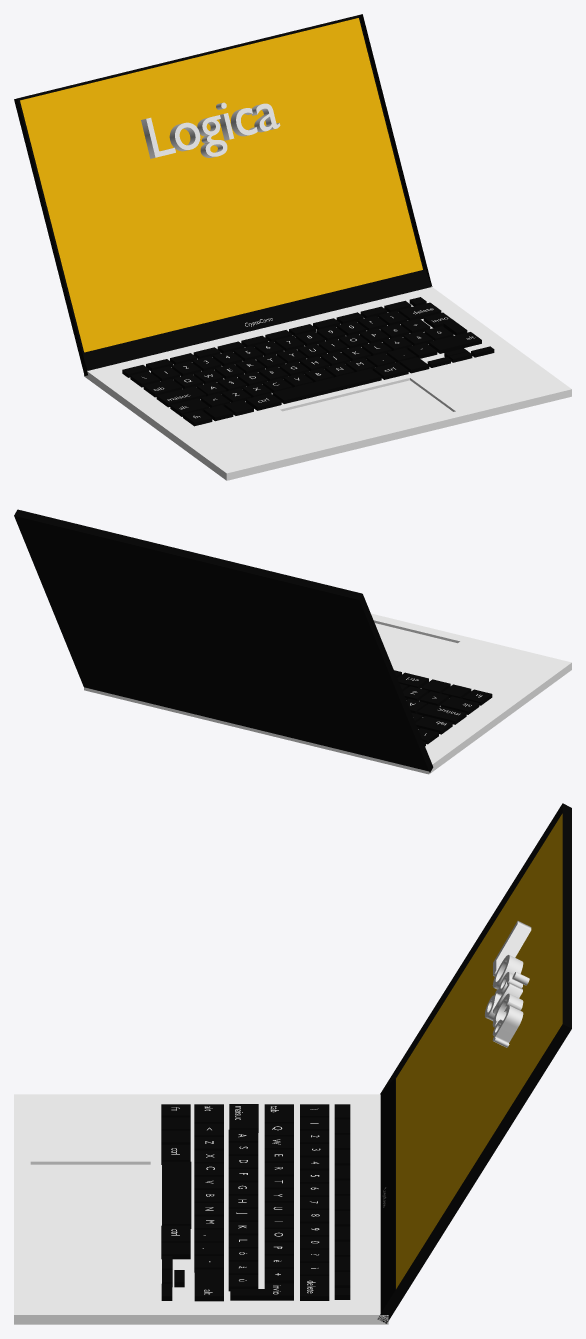
File: logica.glb
3 renders of one model, top to bottom at view 1: azimuth 30°, elevation 25°; view 2: azimuth 150°, elevation 25°; view 3: azimuth 270°, elevation 25°, orthographic. The views are drawn at different scales.
Visible parts, largest first — view 1: Cube.073, Cube, Cube.074, Cube.001, Text, Cube.072, Cube.123; view 2: Cube.001, Cube, Cube.065, Cube.064, Cube.066, Cube.071; view 3: Cube, Cube.073, Cube.001, Cube.074, Text, Cube.072, Cube.123, Cube.065, Cube.027.
Boxes of the visible parts, <box> form: Cube.073: <box>20,18,422,352</box>; Cube: <box>84,286,571,480</box>; Cube.074: <box>82,269,431,370</box>; Cube.001: <box>14,14,432,375</box>; Text: <box>141,102,280,158</box>; Cube.072: <box>272,368,381,403</box>; Cube.123: <box>428,332,481,353</box>; Cube.001: <box>14,509,433,772</box>; Cube: <box>84,613,571,774</box>; Cube.065: <box>417,703,466,724</box>; Cube.064: <box>440,696,479,714</box>; Cube.066: <box>415,716,452,734</box>; Cube.071: <box>397,672,428,688</box>; Cube: <box>14,1094,388,1324</box>; Cube.073: <box>396,813,562,1288</box>; Cube.001: <box>377,803,571,1323</box>; Cube.074: <box>380,1077,396,1313</box>; Text: <box>485,921,531,1047</box>; Cube.072: <box>162,1161,191,1228</box>; Cube.123: <box>194,1269,223,1301</box>; Cube.065: <box>229,1104,258,1132</box>; Cube.027: <box>300,1276,329,1300</box>.
Size of the model in its own units: 6.79 by 4.31 by 7.25.
